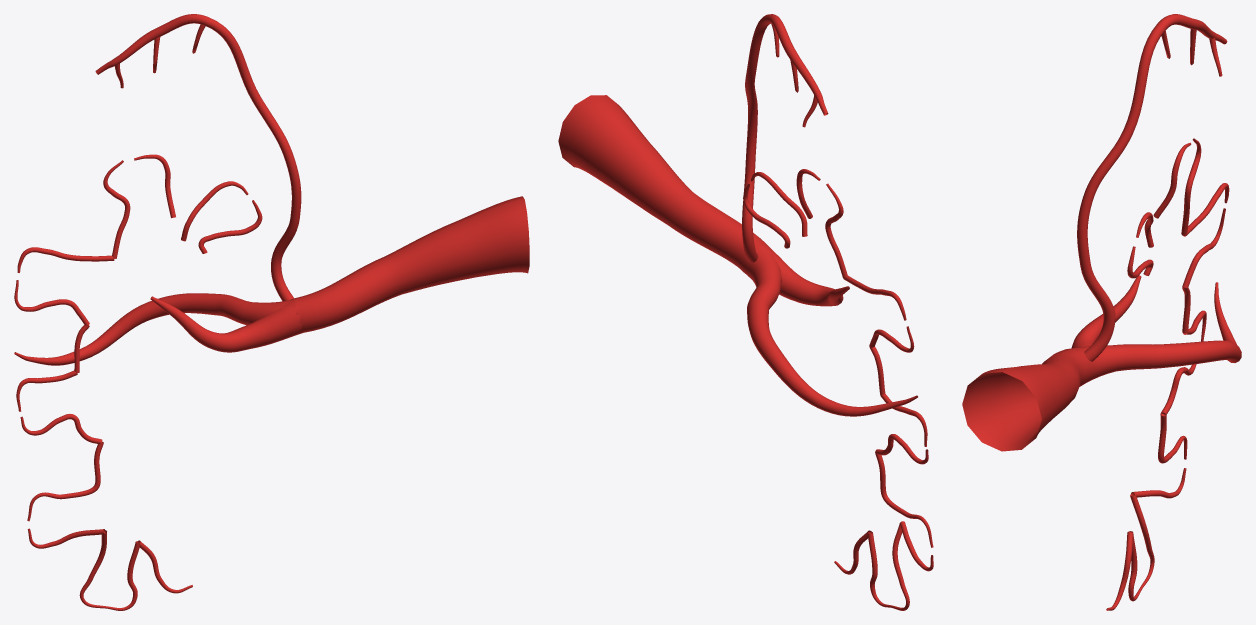
Rendered from circulatorio-right-renal-artery.glb.
3 renders of one model, left to right at view 1: azimuth 30°, elevation 25°; view 2: azimuth 150°, elevation 25°; view 3: azimuth 270°, elevation 25°, orthographic. The views are drawn at different scales.
Visible parts, largest first — view 1: Right renal artery, Intrarenal arteries of right kidney, Inferior suprarenal artery.r, Posterior branch of renal artery.r, Anterior branch of renal artery.r; view 2: Right renal artery, Intrarenal arteries of right kidney, Posterior branch of renal artery.r, Inferior suprarenal artery.r, Anterior branch of renal artery.r; view 3: Right renal artery, Intrarenal arteries of right kidney, Inferior suprarenal artery.r, Posterior branch of renal artery.r, Anterior branch of renal artery.r.
Boxes of the visible parts, x1=… form: Right renal artery: x1=295, y1=196, x2=529, y2=332; Intrarenal arteries of right kidney: x1=14, y1=154, x2=262, y2=610; Inferior suprarenal artery.r: x1=95, y1=14, x2=301, y2=301; Posterior branch of renal artery.r: x1=14, y1=293, x2=297, y2=365; Anterior branch of renal artery.r: x1=150, y1=296, x2=303, y2=352; Right renal artery: x1=558, y1=95, x2=771, y2=271; Intrarenal arteries of right kidney: x1=743, y1=169, x2=933, y2=610; Posterior branch of renal artery.r: x1=742, y1=246, x2=917, y2=416; Inferior suprarenal artery.r: x1=742, y1=14, x2=828, y2=262; Anterior branch of renal artery.r: x1=748, y1=246, x2=849, y2=306; Right renal artery: x1=962, y1=348, x2=1090, y2=451; Intrarenal arteries of right kidney: x1=1106, y1=138, x2=1229, y2=610; Inferior suprarenal artery.r: x1=1077, y1=14, x2=1227, y2=361; Posterior branch of renal artery.r: x1=1066, y1=282, x2=1241, y2=386; Anterior branch of renal artery.r: x1=1070, y1=275, x2=1141, y2=383.
Size of the model in its own units: 0.0835 by 0.1041 by 0.0417.
